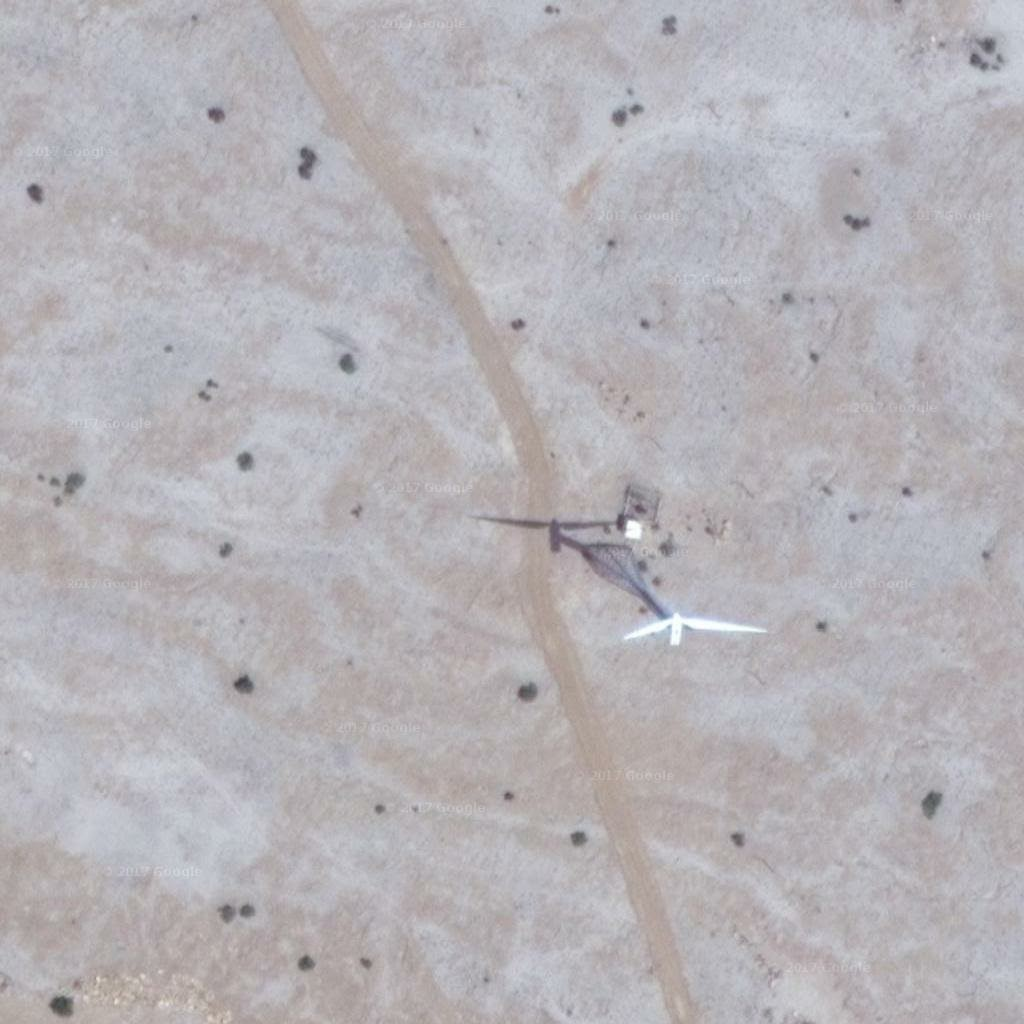Windmill: (480, 500, 667, 615)
